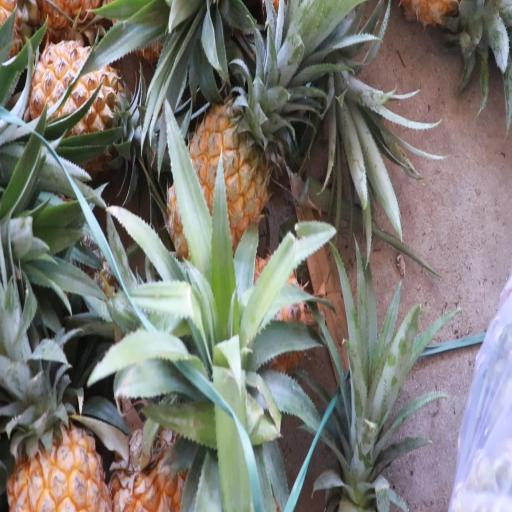Pineapple - v8 v1: (164, 90, 279, 284), (26, 29, 132, 180)
